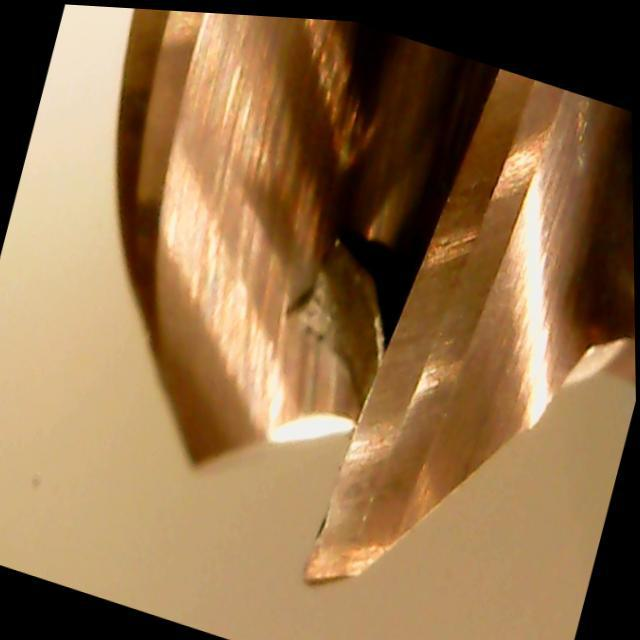Tool-wear-class-1: (278, 395, 426, 621)
